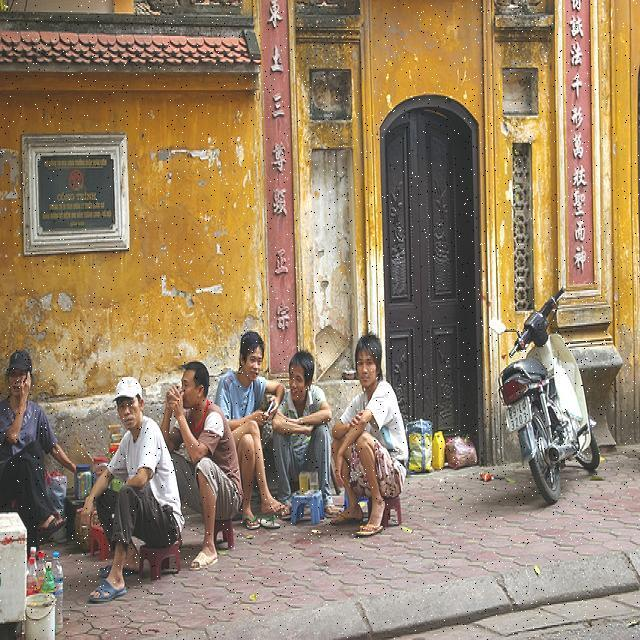motorcycle: (489, 285, 607, 506)
